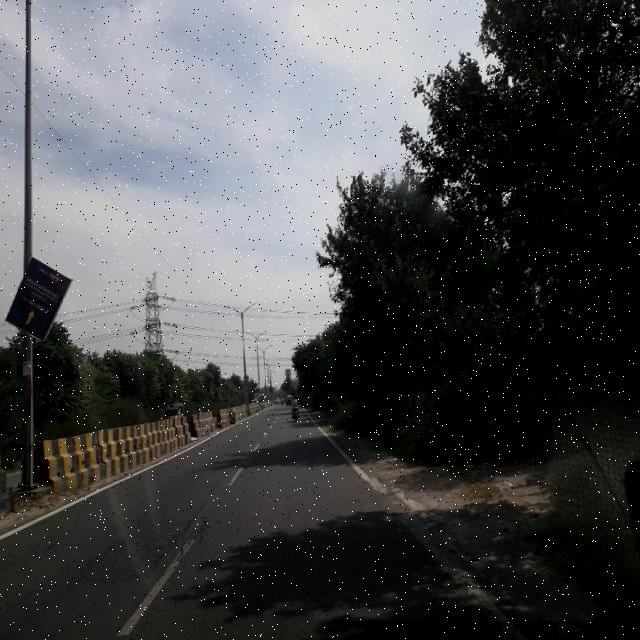D20: (72, 504, 217, 586)
